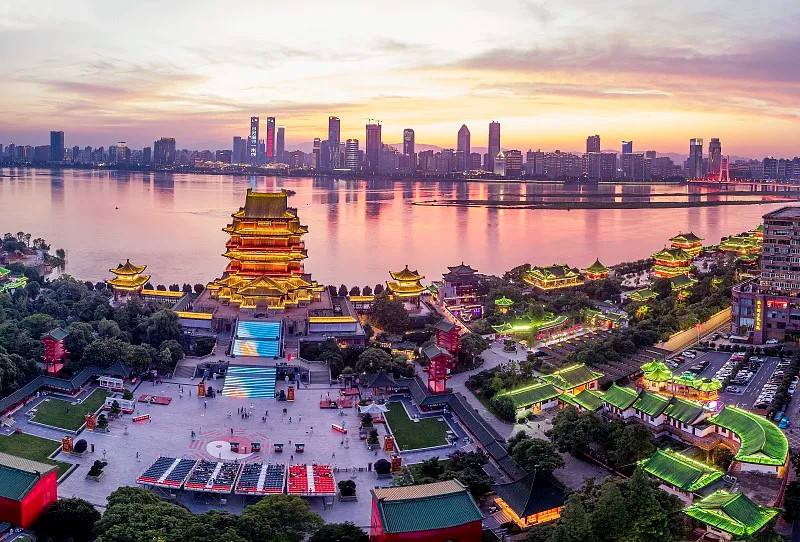Teng: (208, 188, 324, 304)
